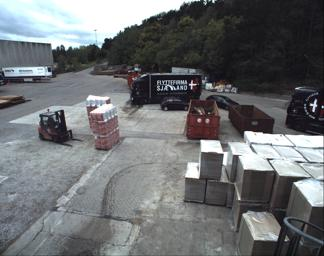rockwool_batts: (90, 102, 118, 148), (85, 93, 109, 118)
